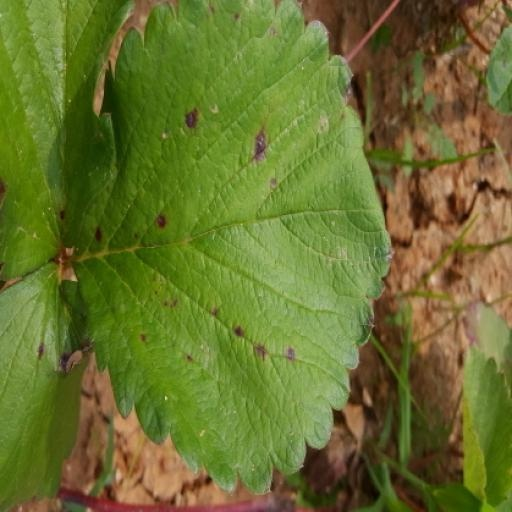Leaf Spot: (118, 16, 446, 511), (378, 233, 511, 511), (420, 0, 511, 250)
